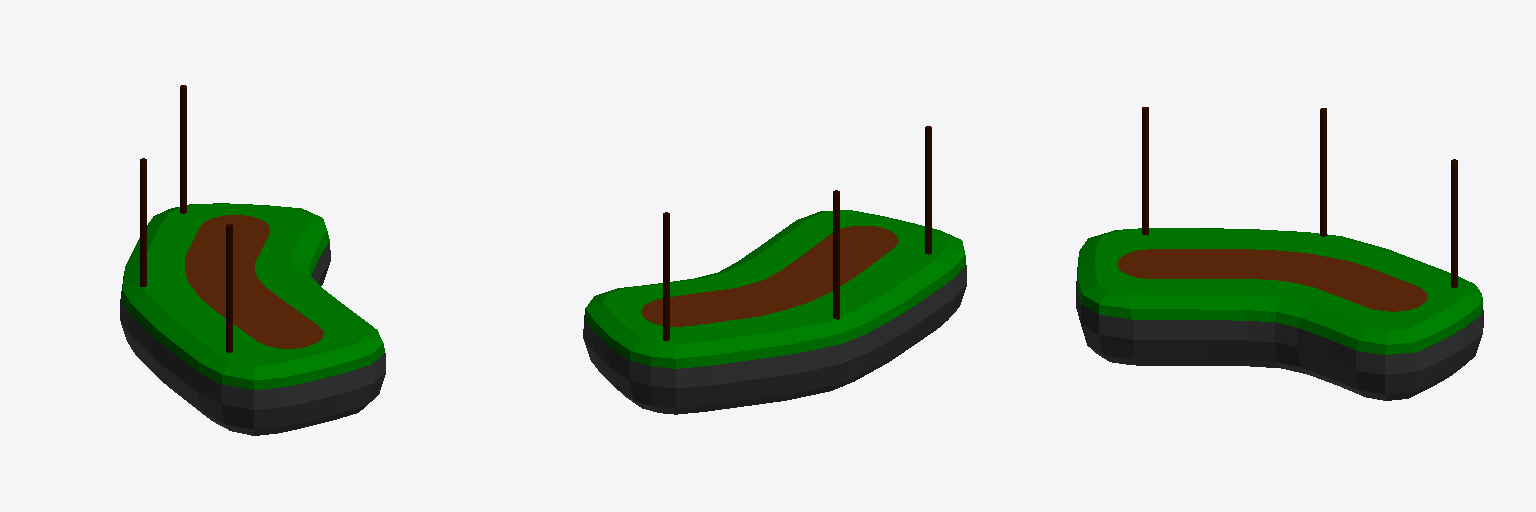
Rendered from HikeGardenFooStepA.obj.
The picture shows the model from 3 angles: view 1: azimuth 30°, elevation 25°; view 2: azimuth 150°, elevation 25°; view 3: azimuth 270°, elevation 25°; orthographic projection.
Visible parts, largest first — view 1: HikeGardenFooStepACollision; view 2: HikeGardenFooStepACollision; view 3: HikeGardenFooStepACollision.
Boxes of the visible parts, x1=… form: HikeGardenFooStepACollision: x1=120, y1=85, x2=385, y2=435; HikeGardenFooStepACollision: x1=583, y1=126, x2=966, y2=414; HikeGardenFooStepACollision: x1=1076, y1=107, x2=1483, y2=400.
Size of the model in its own units: 1480 by 1178 by 2132.